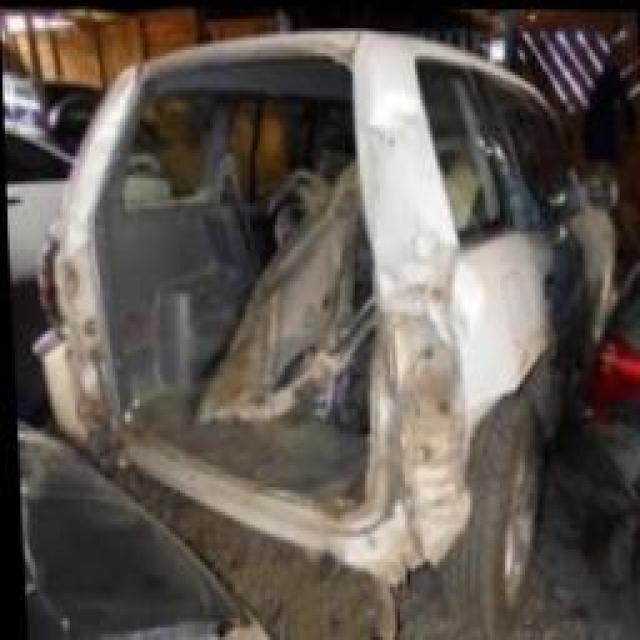Bumper: (39, 359, 453, 588)
Dickey: (81, 57, 375, 529)
Fender: (349, 55, 456, 313)
Light: (371, 315, 460, 437), (41, 236, 67, 330)
